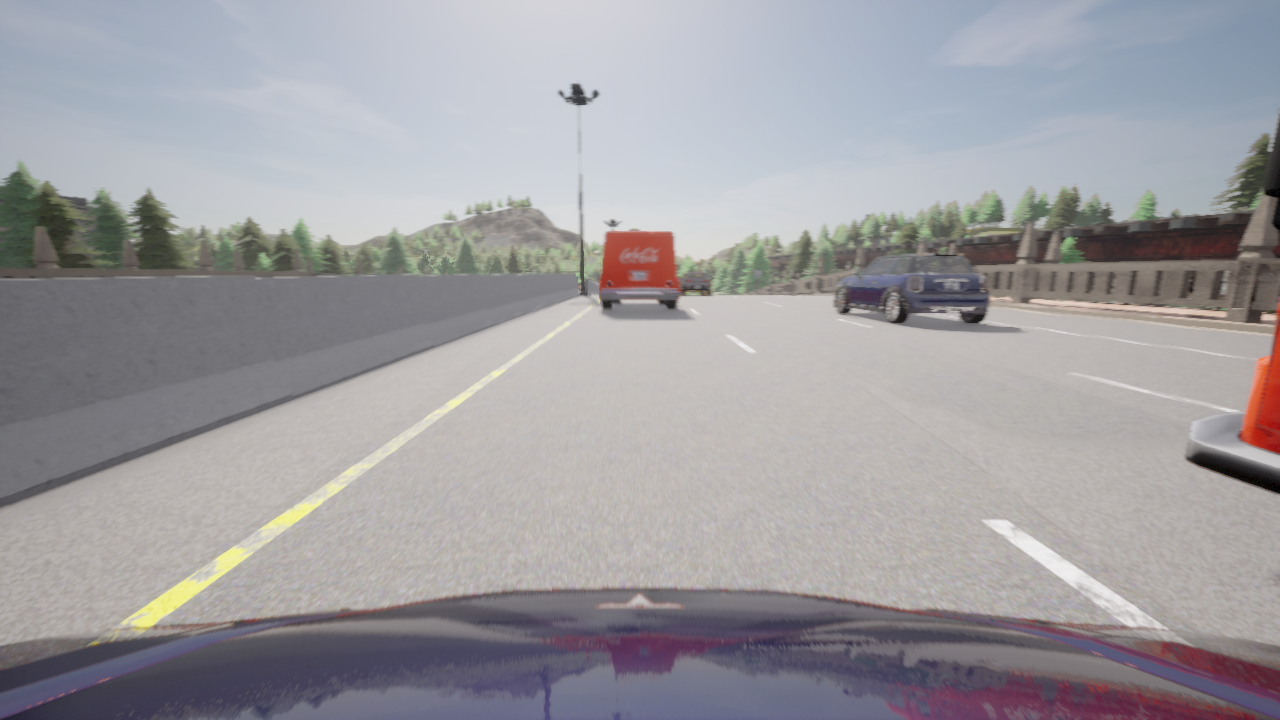cyclist: (0, 588, 1279, 719), (1186, 111, 1279, 494), (834, 250, 990, 323), (600, 232, 679, 309), (679, 272, 710, 295)
